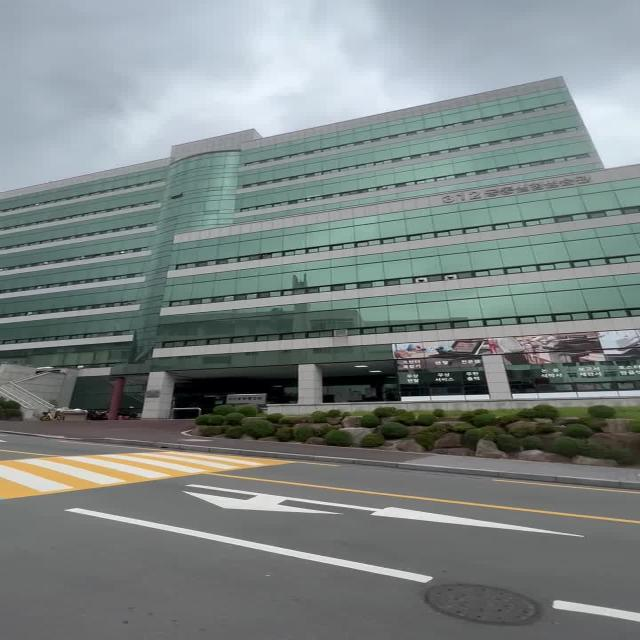building: (50, 101, 640, 338)
